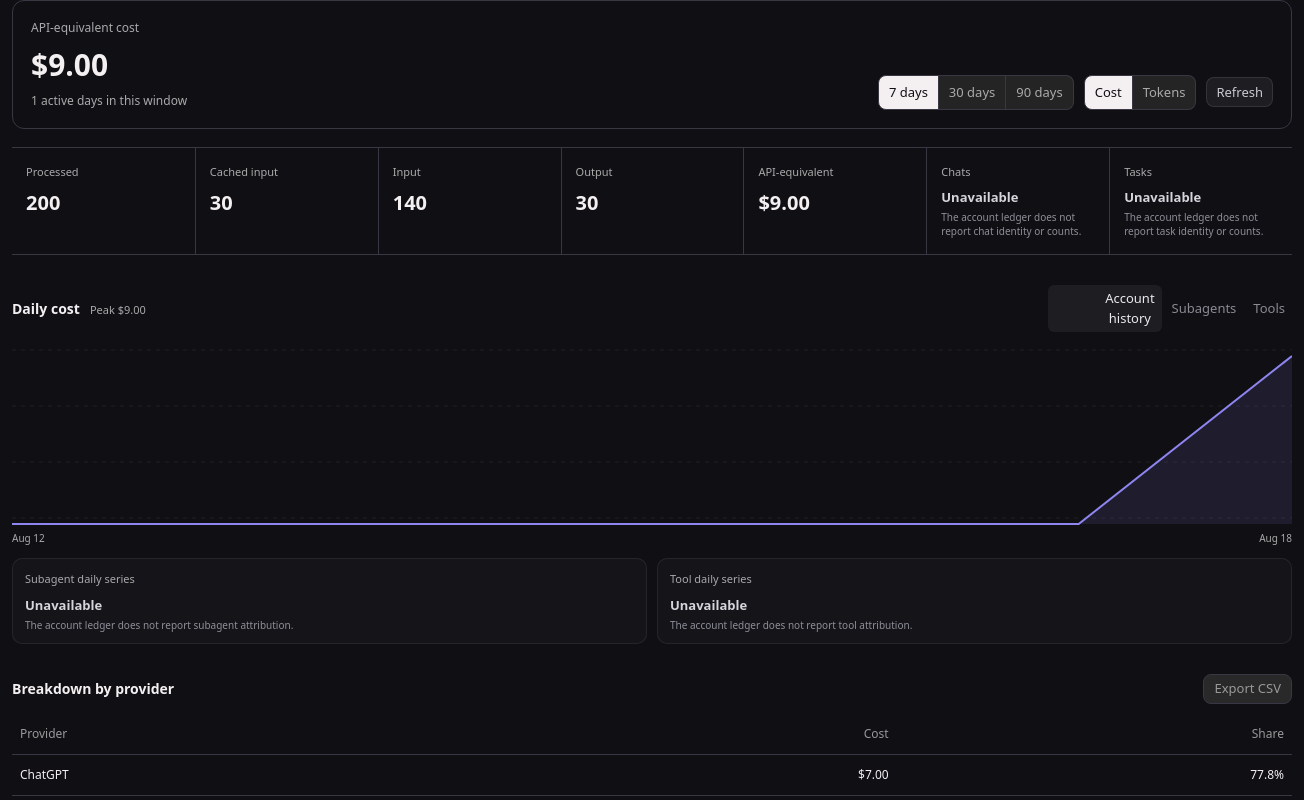
Test: AccountUsageSettings › reloads the native accounting window and can switch to tokens
The image size is (1304, 800).
Click the button "30 days". click: point(973, 92)
box: [939, 74, 1006, 110]
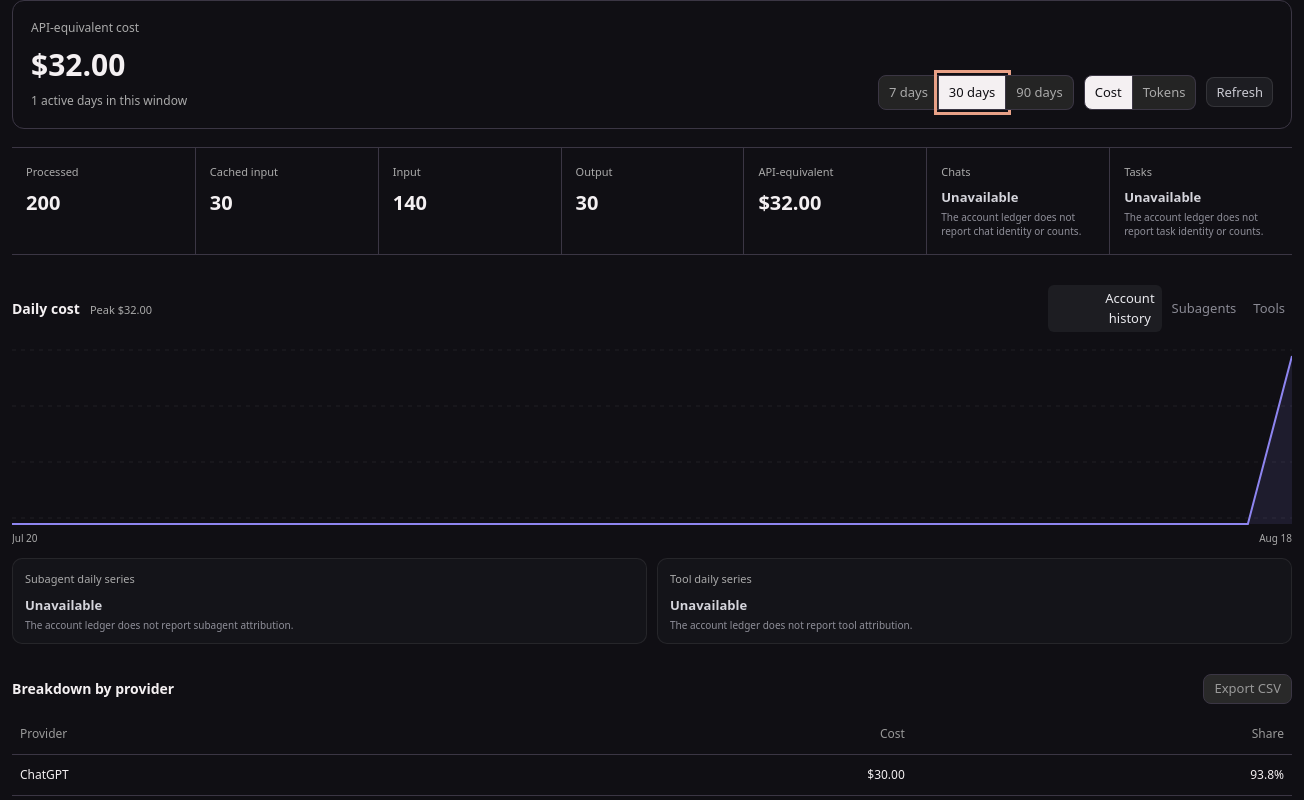
Click the button "Tokens". click: point(1165, 92)
box: [1133, 74, 1196, 110]
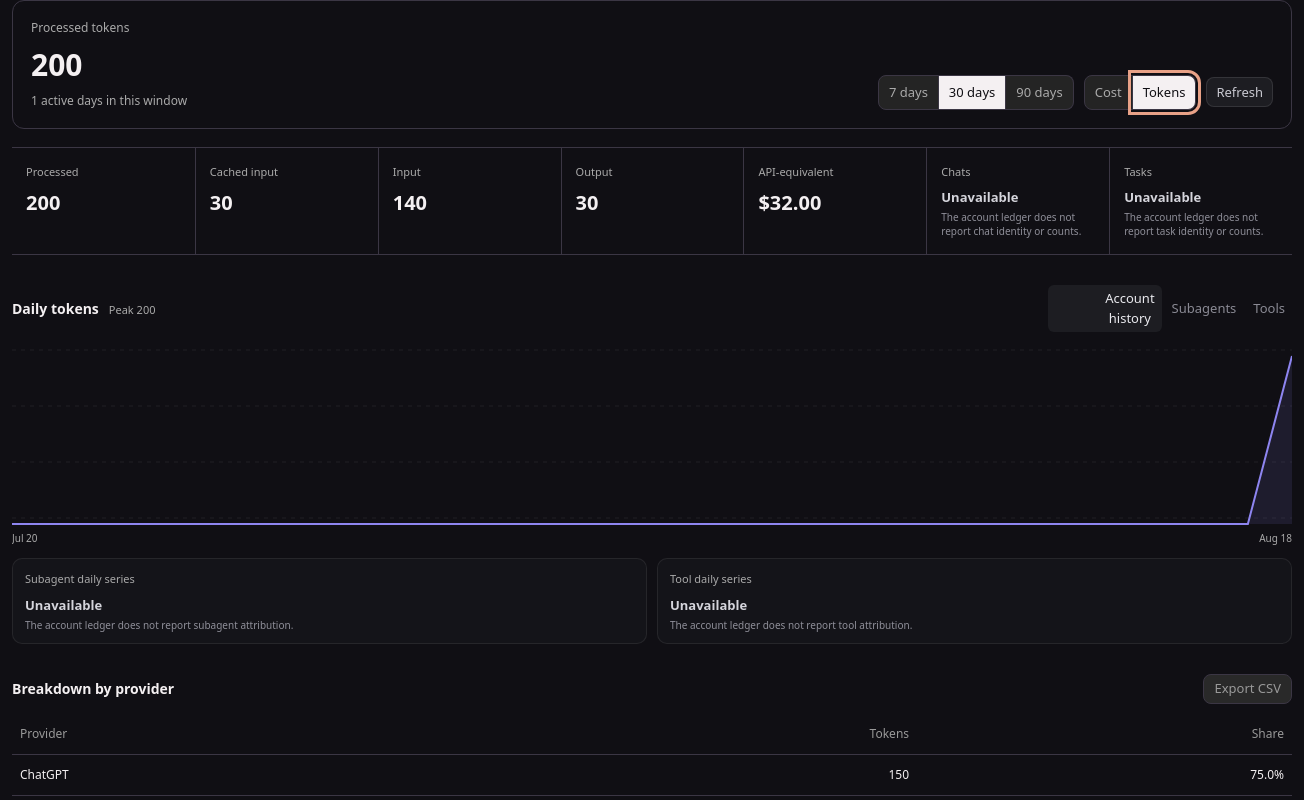
Expected: the button "Export CSV" is disabled, [1203, 674, 1292, 704]
Expected: the text "200" below "Processed tokens" is shown, [31, 44, 82, 85]
